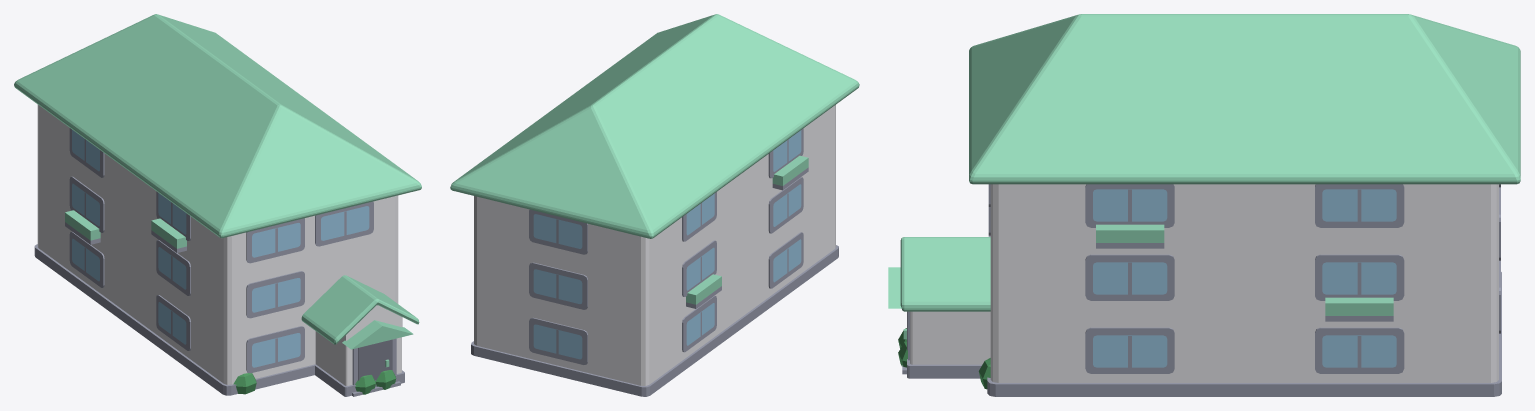
The model's file is house-1x2-3f-mansard-a.glb.
3 views of the same model, side by side, from view 1: azimuth 30°, elevation 25°; view 2: azimuth 150°, elevation 25°; view 3: azimuth 270°, elevation 25° (orthographic). The views are drawn at different scales.
Visible parts, largest first — view 1: house-1x2-3f-mansard-a; view 2: house-1x2-3f-mansard-a; view 3: house-1x2-3f-mansard-a.
Boxes of the visible parts, bbox=[...] form: house-1x2-3f-mansard-a: bbox=[14, 14, 421, 396]; house-1x2-3f-mansard-a: bbox=[450, 14, 859, 396]; house-1x2-3f-mansard-a: bbox=[888, 14, 1520, 396].
Bounding box in the file's own units: 1 × 1.16 × 2.04.
Materials: 1 (1 with a texture image).
